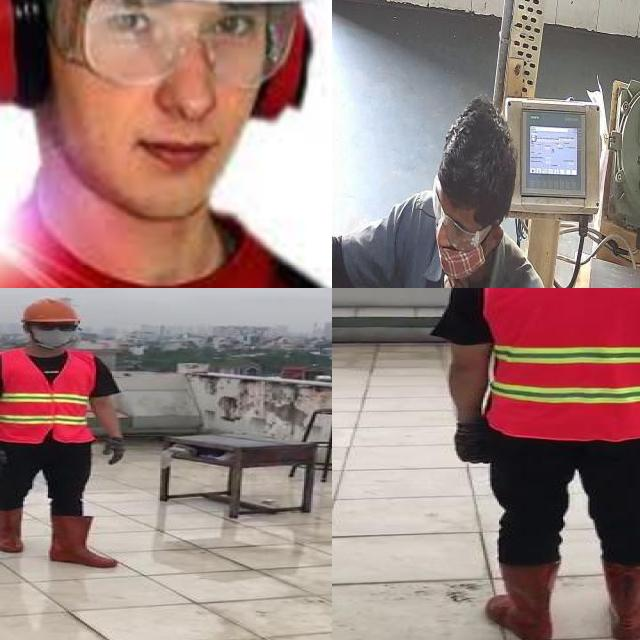Ear-protection: (0, 0, 52, 102), (265, 14, 313, 123)
boots: (485, 561, 556, 640), (46, 513, 121, 566), (598, 558, 640, 640), (0, 508, 24, 552)
face_mask: (425, 191, 498, 279), (31, 320, 76, 346)
glasses: (52, 0, 299, 94), (430, 176, 492, 253), (31, 318, 81, 332)
hand_glove: (454, 422, 492, 464), (98, 436, 126, 465), (0, 444, 9, 469)
hand_noglove: (425, 271, 481, 288)
head_helmet: (16, 294, 84, 323)
head_nohelmet: (431, 95, 527, 220)
person: (0, 0, 332, 288), (422, 288, 640, 640), (356, 94, 561, 288), (0, 294, 130, 571)
vest: (481, 288, 640, 440), (0, 349, 99, 443)
